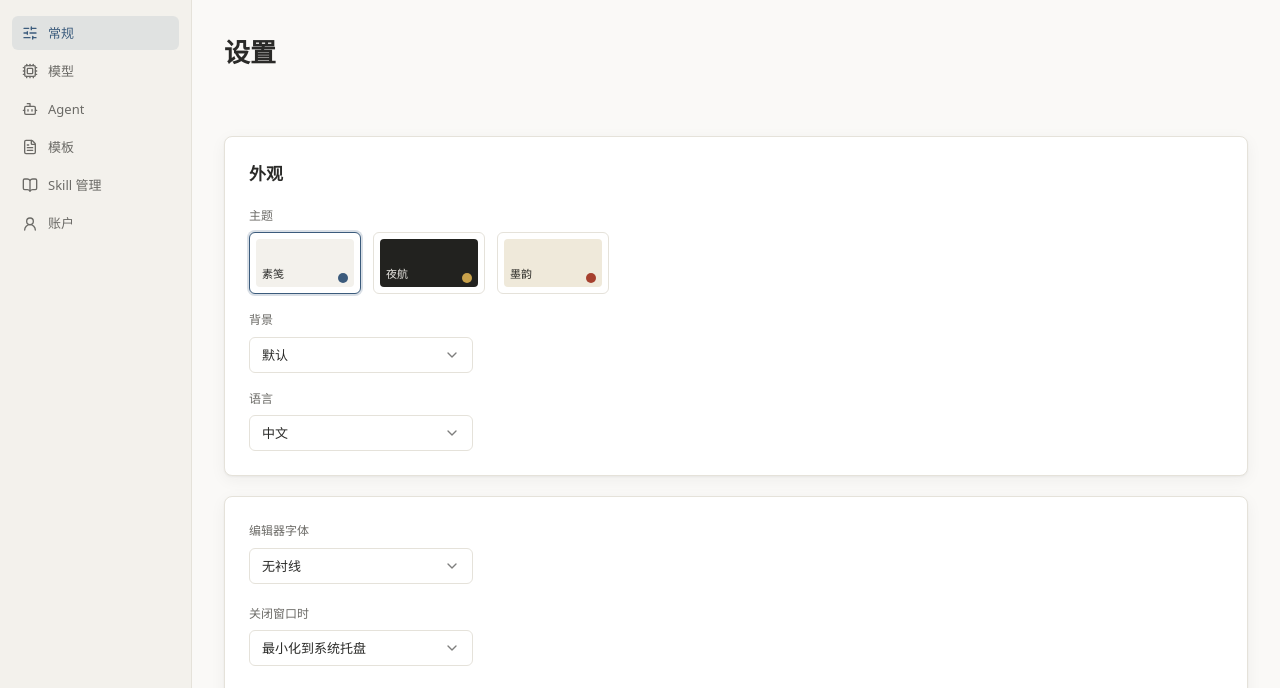
Test: 设置页 — 默认模型下拉回读与选择（#105 补测；F42 #268 R1 ② 改 provider/model） › config.model 已配置 → 下拉回读当前模型值（truthy 分支，完整 provider/model）
Click the button "Agent": (96, 109) [12,92,179,126]
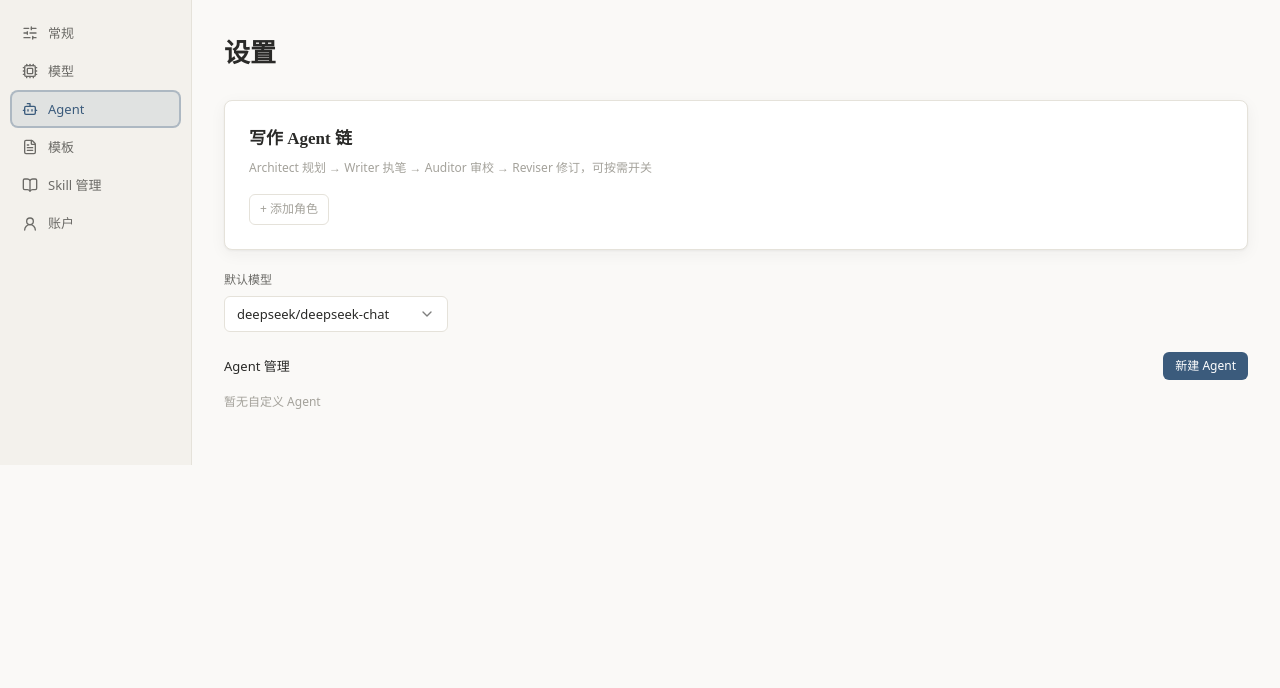
Check: the dropdown named "默认模型" reads "deepseek/deepseek-chat", box [224,296,448,332]
